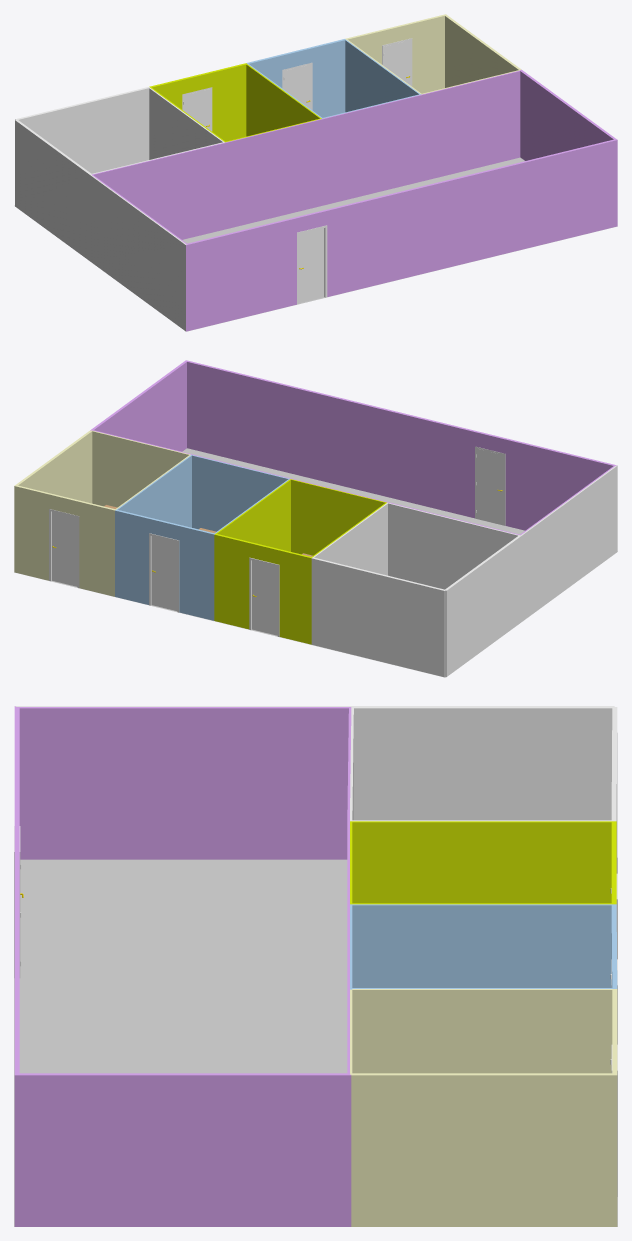
File: MODELO_B.glb
The picture shows the model from 3 angles, top to bottom: view 1: azimuth 30°, elevation 25°; view 2: azimuth 150°, elevation 25°; view 3: azimuth 270°, elevation 25°; orthographic projection. The views are drawn at different scales.
Parts seen in each view (by area): view 1: MODELO_B; view 2: MODELO_B; view 3: MODELO_B.
Part boxes in pixels (bbox=[...]): MODELO_B: bbox=[14, 14, 617, 331]; MODELO_B: bbox=[14, 360, 617, 677]; MODELO_B: bbox=[14, 706, 617, 1226].
Bounding box in the file's own units: 1308 × 251 × 904.
